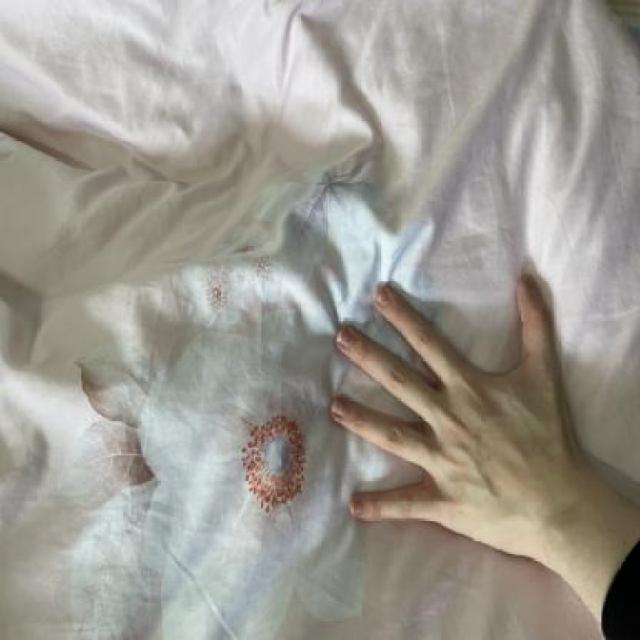hand: (313, 250, 592, 581)
